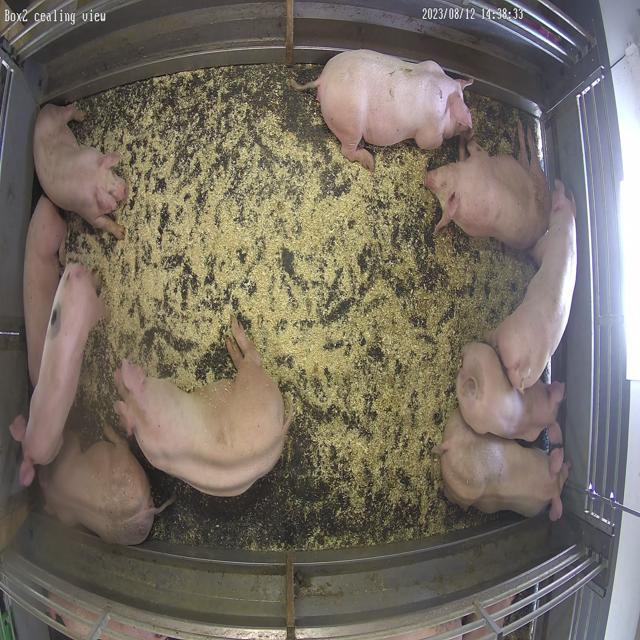Dirt: (426, 208, 538, 356), (465, 81, 543, 162)
Pig: (114, 321, 292, 498), (9, 264, 104, 486), (300, 49, 473, 168), (490, 180, 577, 392), (37, 427, 172, 546), (437, 409, 571, 522), (426, 140, 551, 250), (33, 105, 128, 238), (457, 343, 566, 444), (23, 195, 66, 386)
